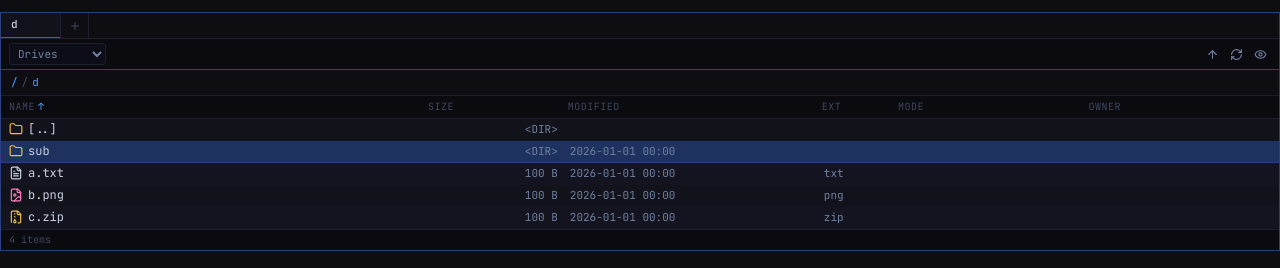
Test: FilePanel 커버리지 (FPC) › FPC-06: Shift+클릭 → 커서부터 범위 선택, 푸터에 선택 수/크기
The width and height of the screenshot is (1280, 268).
Click the element showing "a.txt 100 B 2026-01-01 00:00 txt".
click(640, 174)  # box [1,163,1279,185]
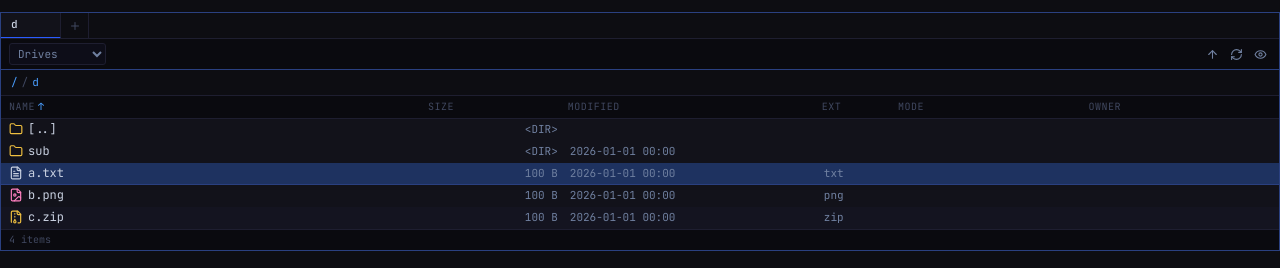
Click the element showing "c.zip 100 B 2026-01-01 00:00 zip".
click(640, 218)  # box [1,207,1279,229]
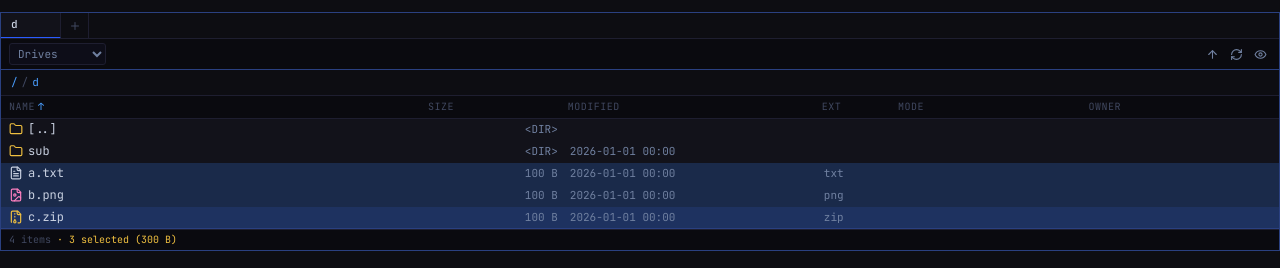
Now the text "· 3 selected (300 B)" is shown, box [51,233,177,246]
